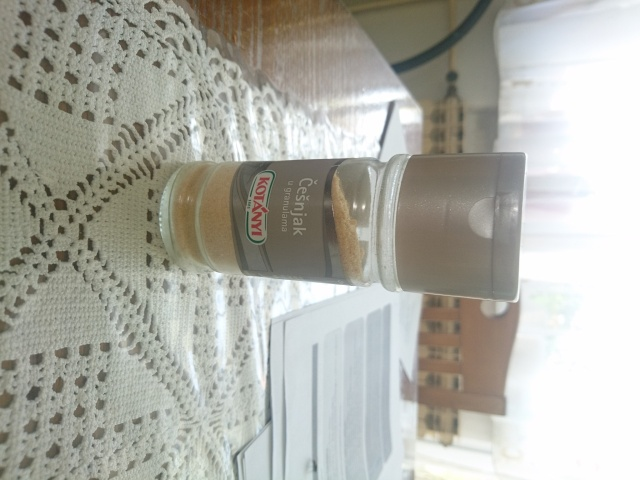Kotanyi Garlic Granules 70g: (153, 148, 529, 307)
